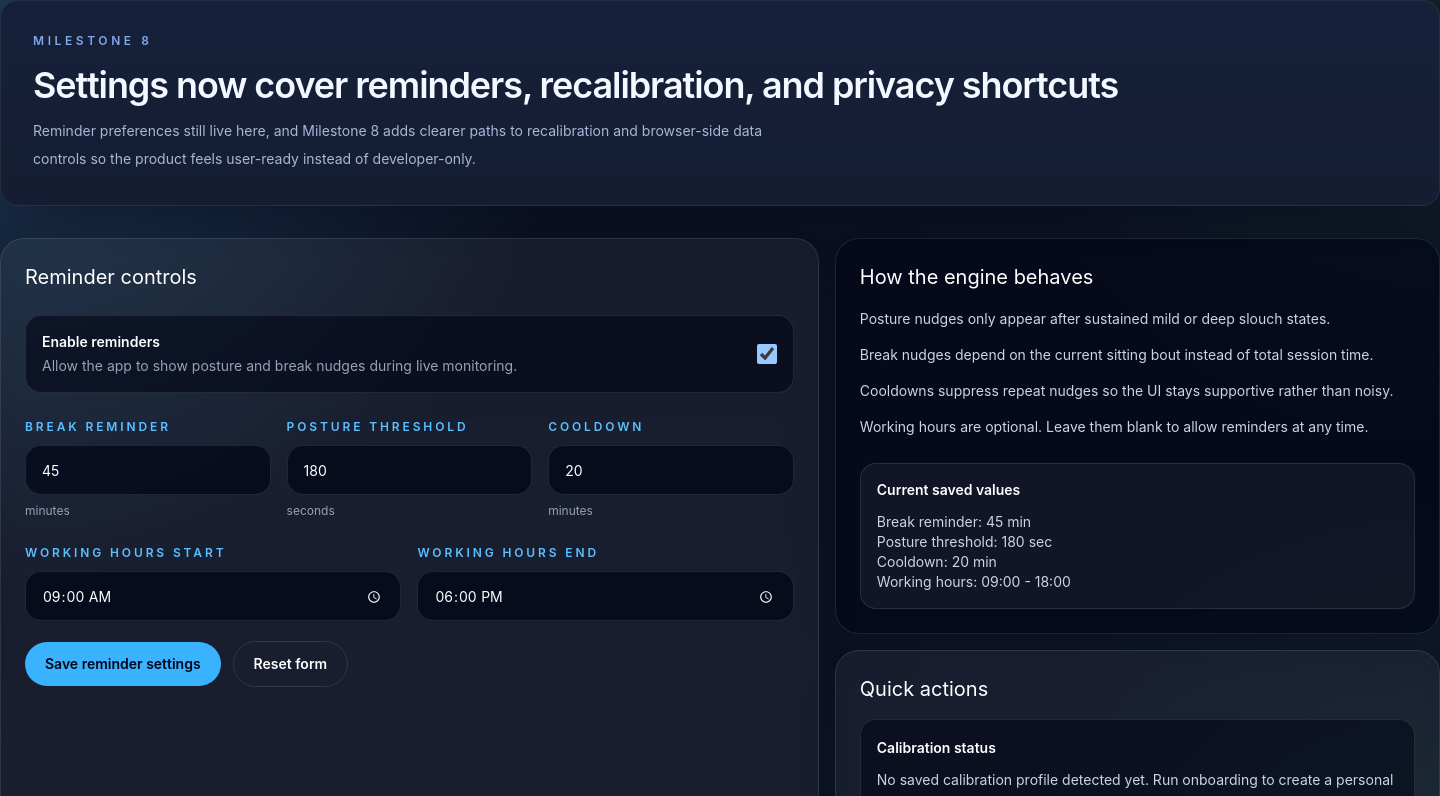
SettingsPage › submits edited reminder settings through the settings hook
Replace the text in the number field labelled "Break reminder minutes" with "60" at (148, 471), box [42,461,254,481]
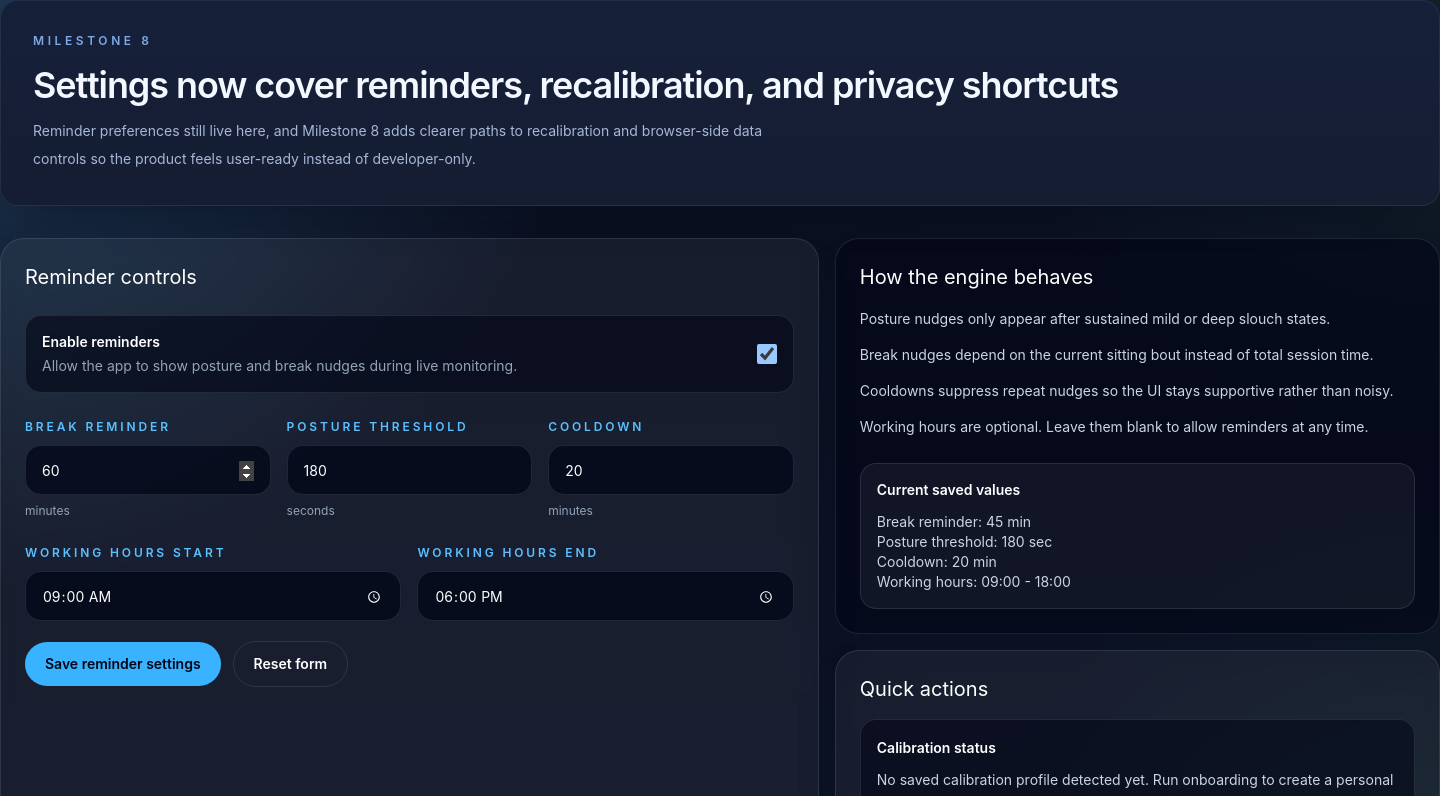
Replace the text in the number field labelled "Posture threshold seconds" with "240" at (409, 471), box [304,461,515,481]
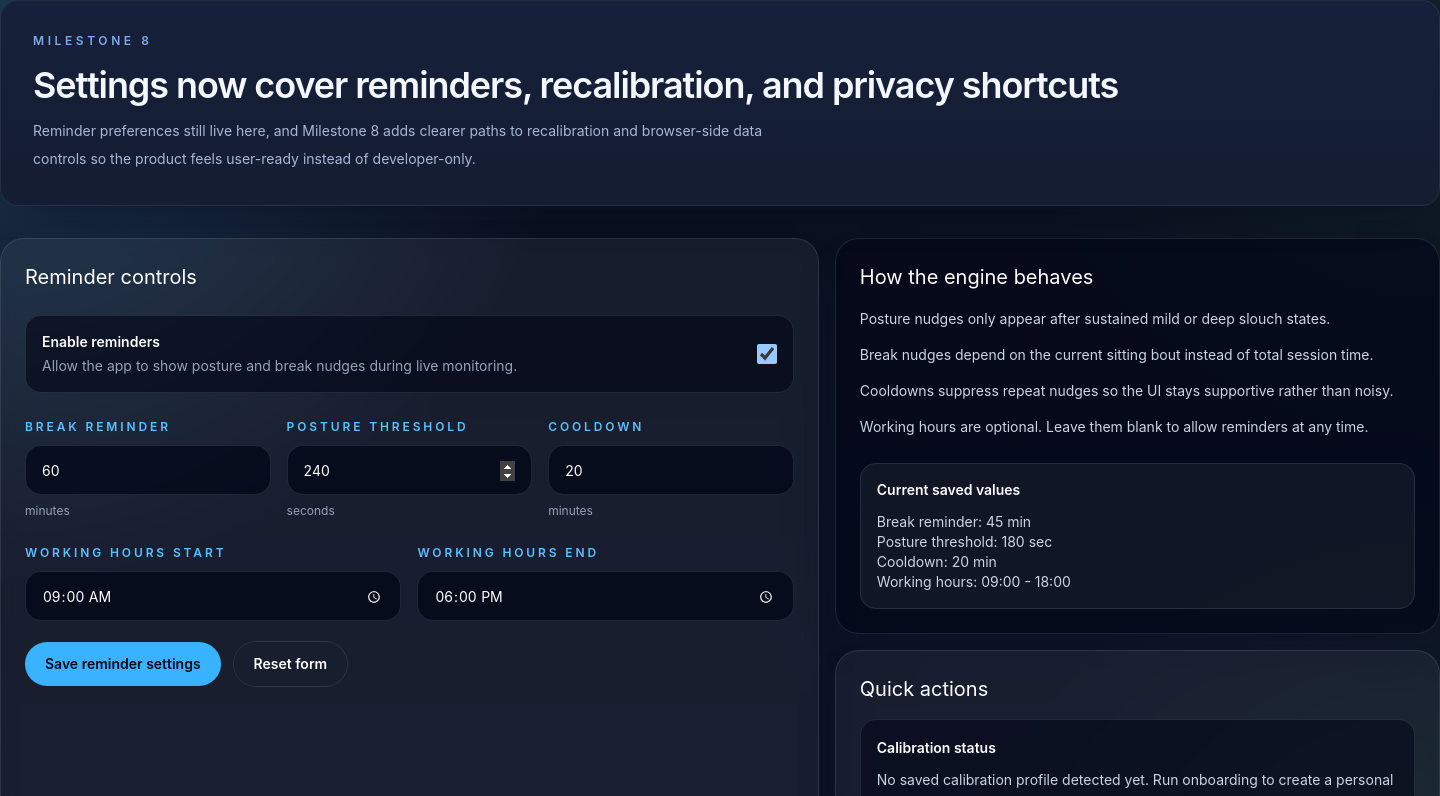
Replace the text in the number field labelled "Cooldown minutes" with "30" at (671, 471), box [565,461,777,481]
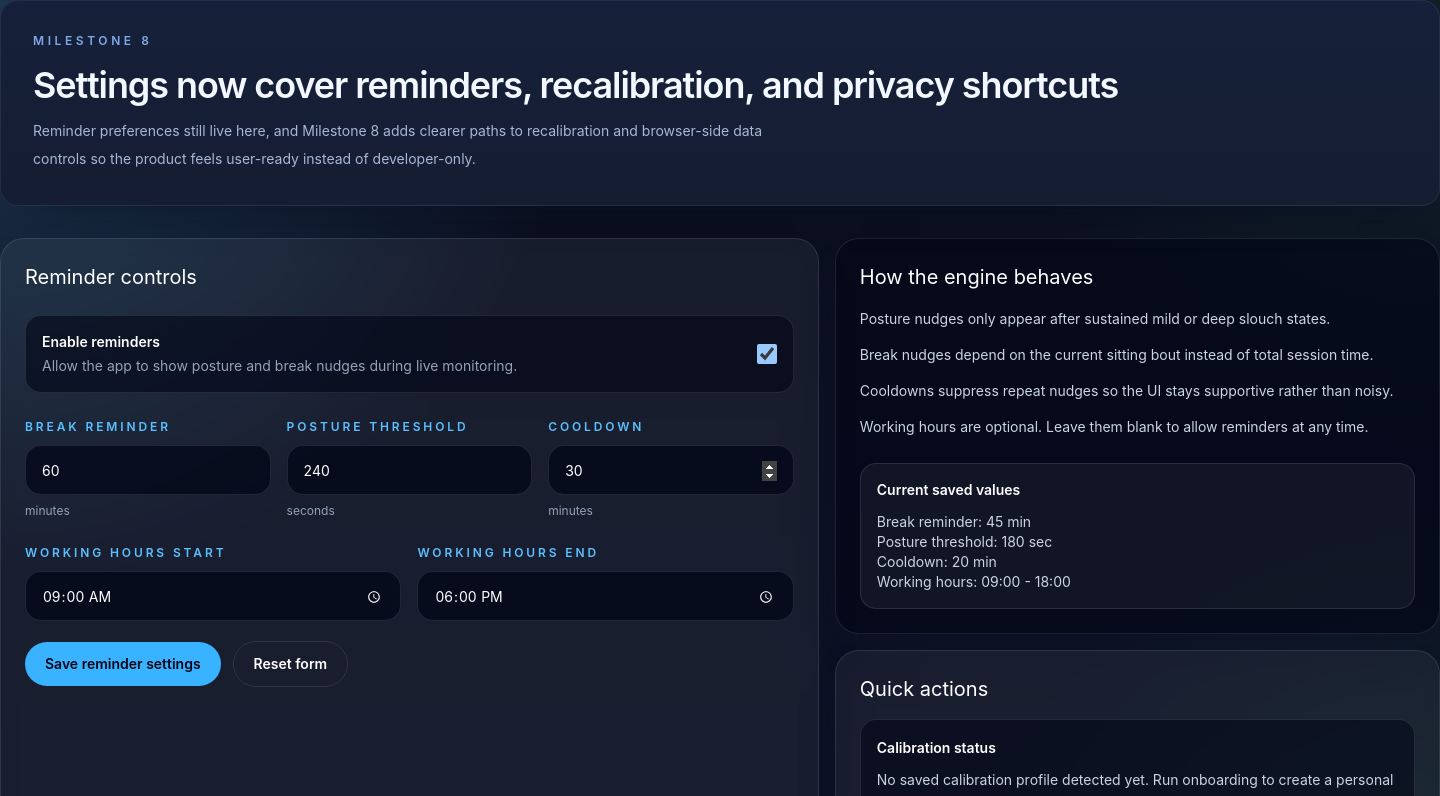
Click the button "Save reminder settings".
click(123, 664)  # box [25,642,221,686]
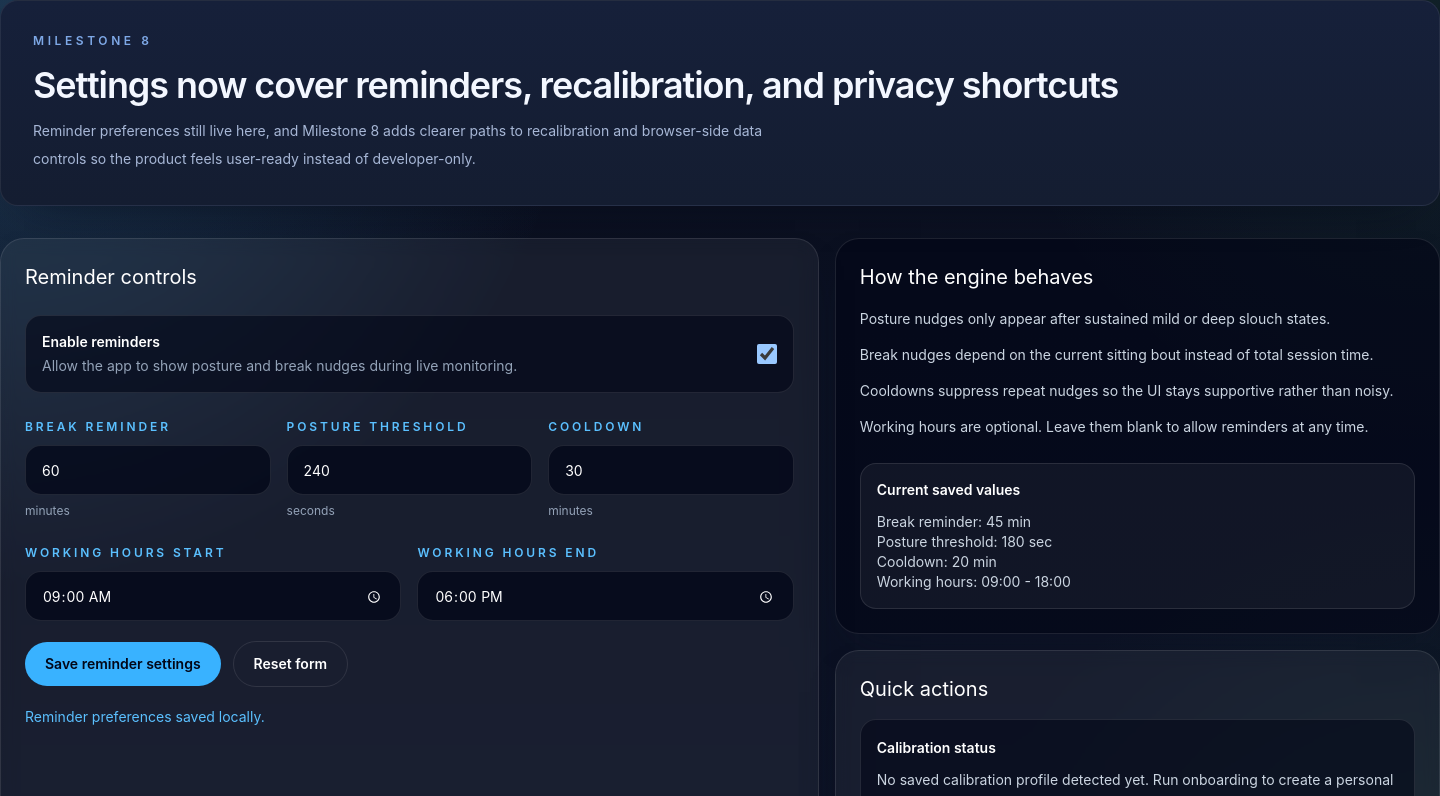
Now the text "Reminder preferences saved locally." is shown, box [25,708,265,725]
